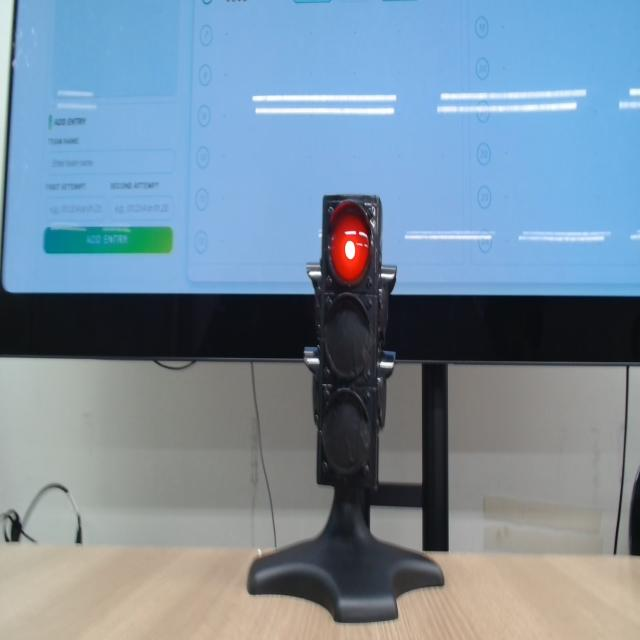red_light: (330, 203, 370, 284)
